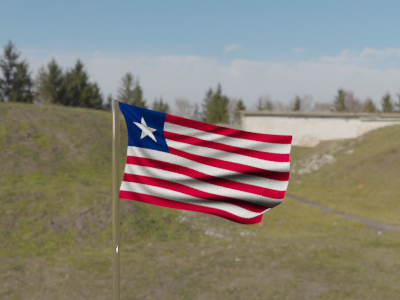Liberia flag: (114, 95, 293, 228)
